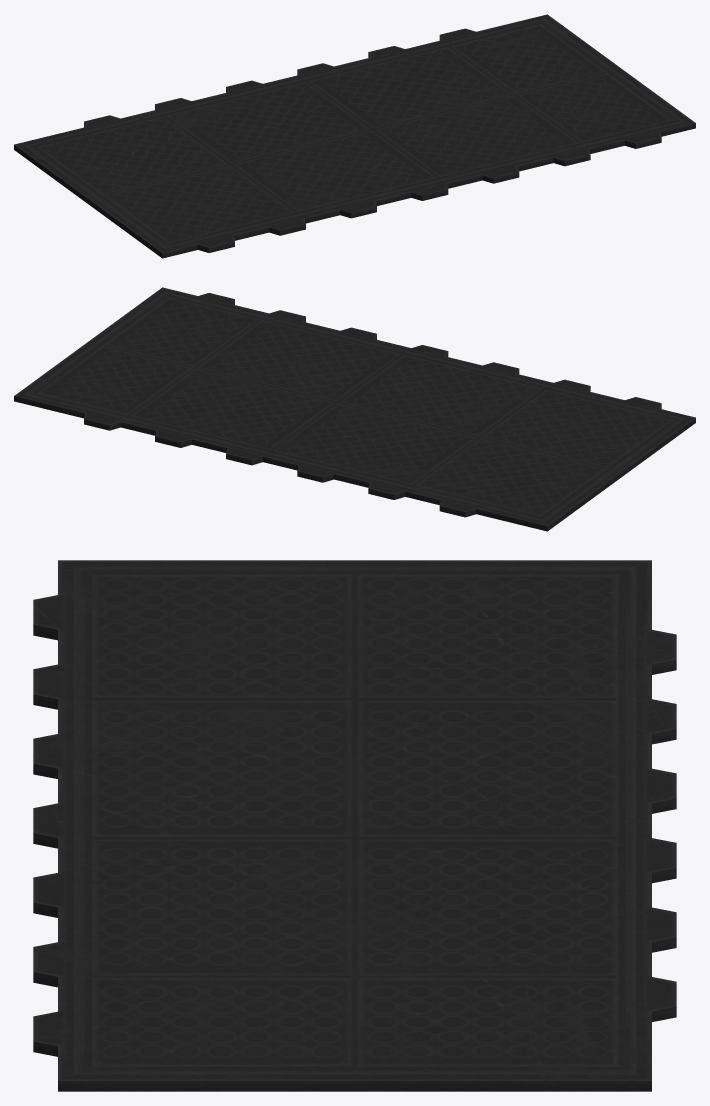
File: Prop_Plastic_Mop.fbx
The picture shows the model from 3 angles, top to bottom: view 1: azimuth 30°, elevation 25°; view 2: azimuth 150°, elevation 25°; view 3: azimuth 270°, elevation 25°; orthographic projection. The views are drawn at different scales.
Visible parts, largest first — view 1: Prop_Plastic_Mop; view 2: Prop_Plastic_Mop; view 3: Prop_Plastic_Mop.
Boxes of the visible parts, left/top/right/bottom form: Prop_Plastic_Mop: left=14, top=14, right=695, bottom=258; Prop_Plastic_Mop: left=14, top=287, right=695, bottom=531; Prop_Plastic_Mop: left=33, top=560, right=676, bottom=1091.
Bounding box in the file's own units: 66.9 × 0.6353 × 34.91.
